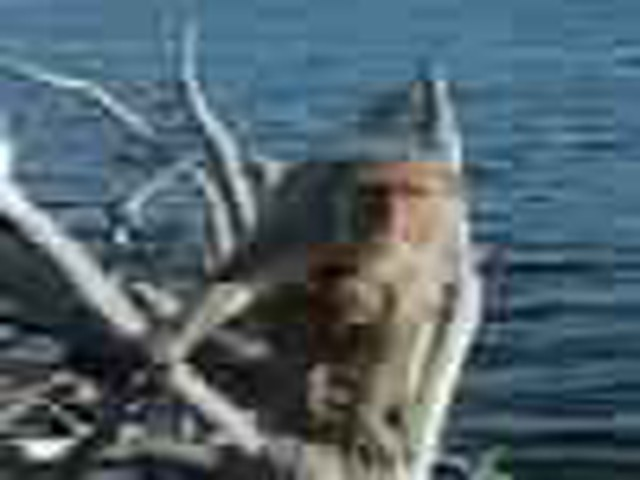Monkey: (202, 137, 487, 469)
